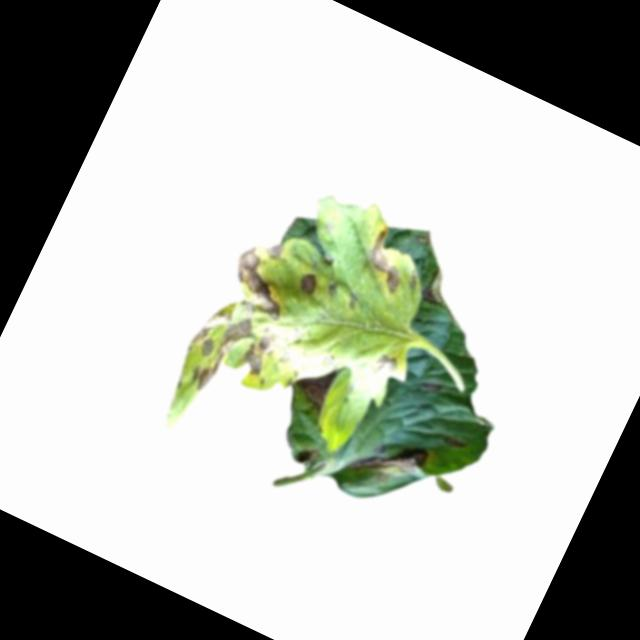Early_blight: (173, 226, 319, 414), (347, 419, 433, 504), (356, 227, 421, 297), (291, 353, 345, 413), (365, 349, 403, 388), (295, 269, 322, 298)
